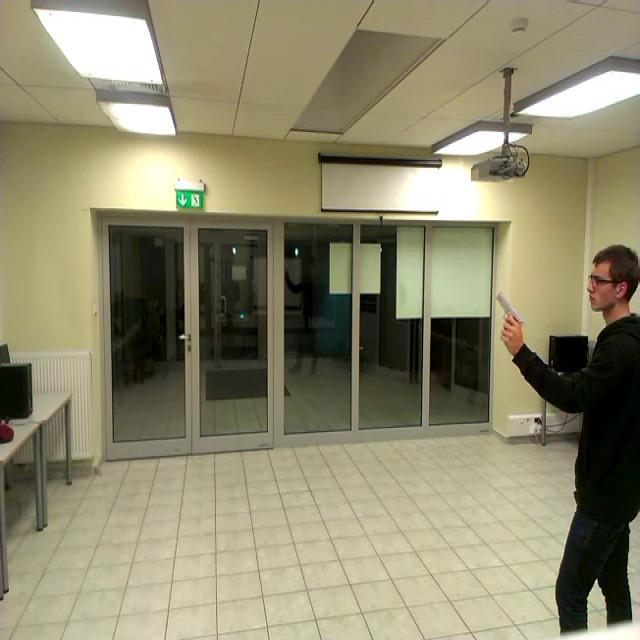Gun: (496, 289, 524, 341)
